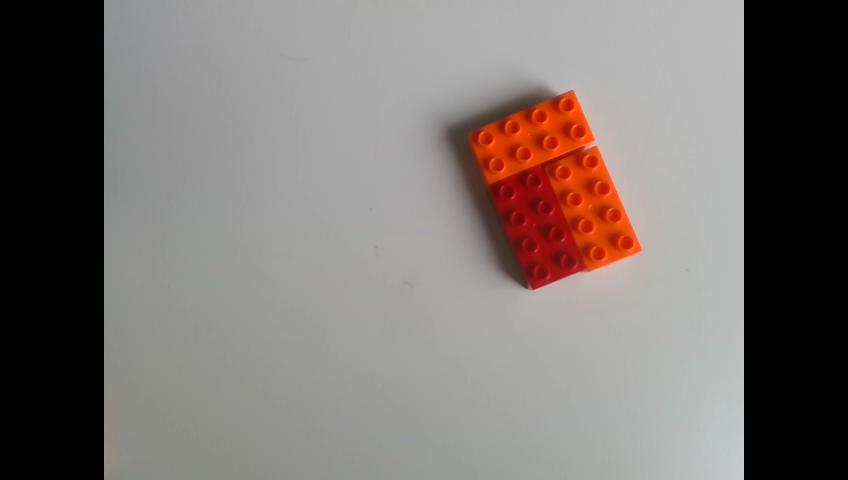4x2_orange: (543, 145, 643, 272), (466, 88, 594, 184)
4x2_red: (485, 164, 584, 291)
